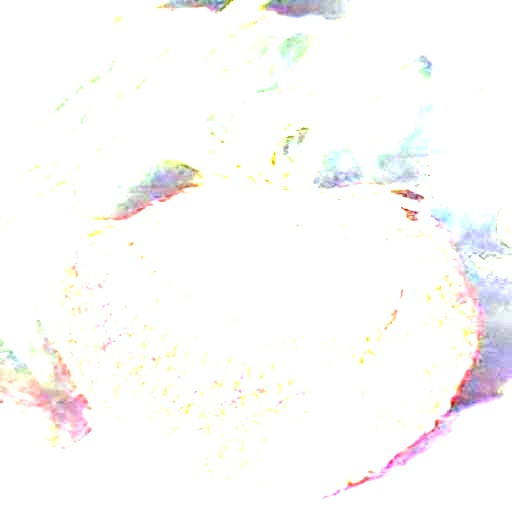Gray Mold: (102, 161, 471, 374)
